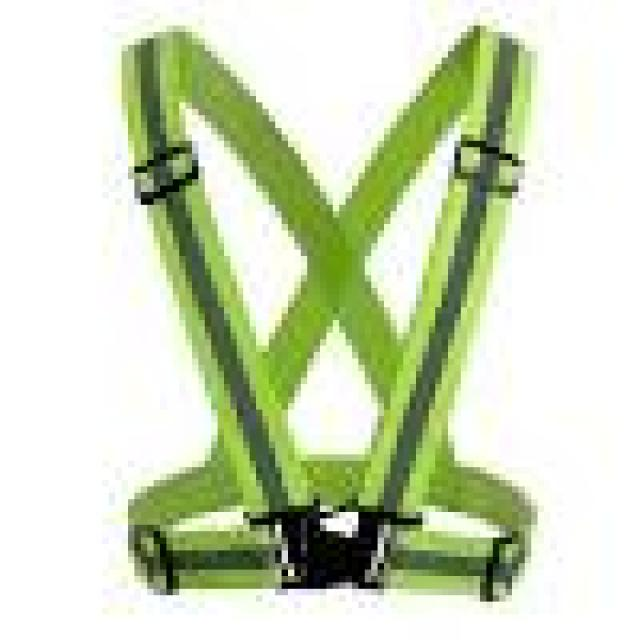Reflective-Jacket: (26, 0, 627, 634)
